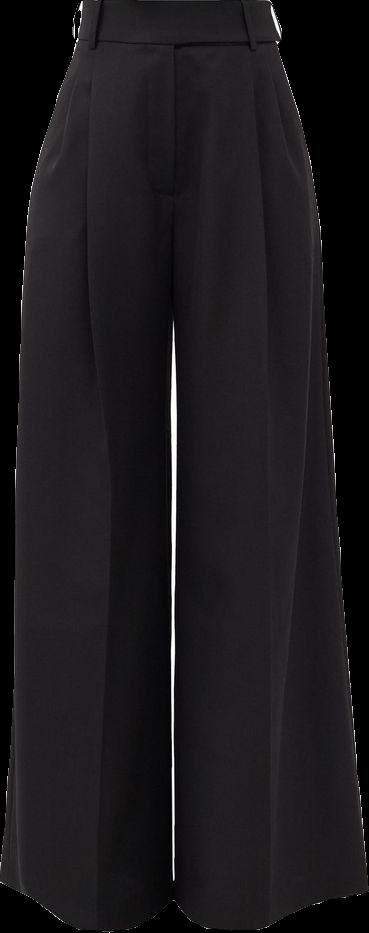Hemline: (0, 870, 170, 931), (165, 886, 368, 931)
Pantleg: (168, 0, 368, 929), (0, 0, 172, 929)
Waistline: (73, 38, 279, 57), (79, 0, 271, 12)
